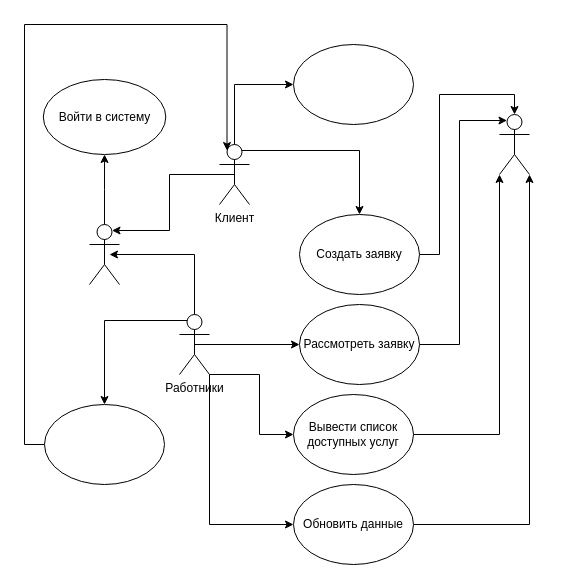
The diagram is 567 pixels wide and 582 high, and some of its shapes have lost their labels. The centre of each missing label's shape, as x and y in pixels:
"База данных" belongs at (514,144).
"Пользователь" belongs at (104,254).
"Посмотреть прогресс заявки" belongs at (353,84).
"Предоставить услуги клиенту" belongs at (104,444).
